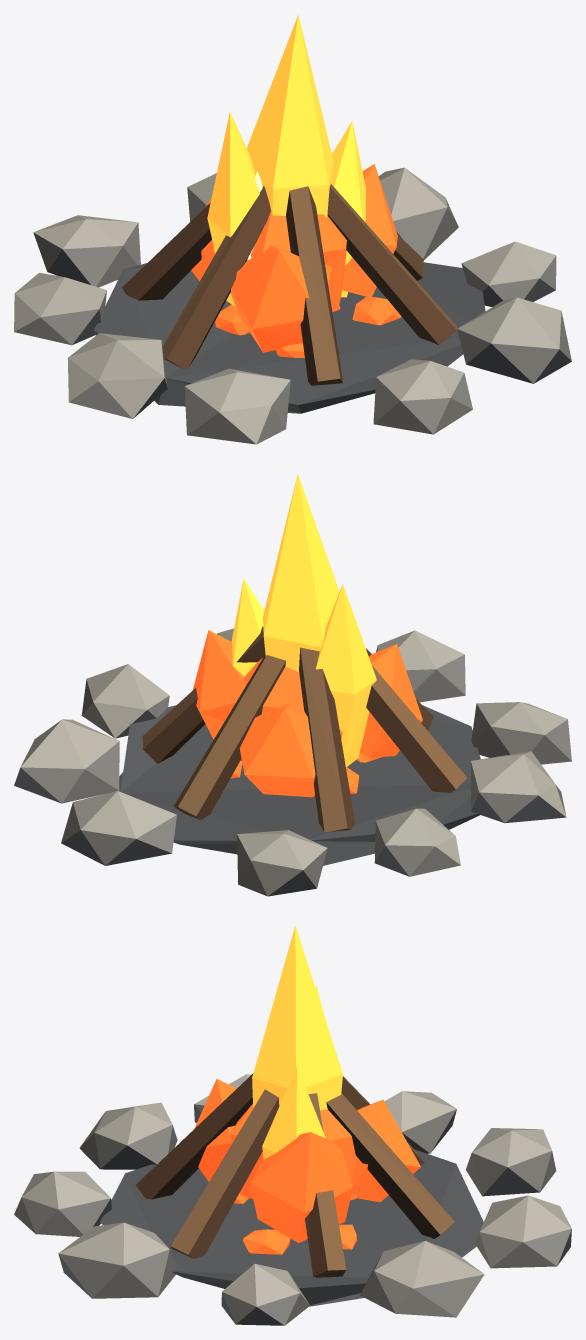
File: SM_Campfire.fbx
The picture shows the model from 3 angles, top to bottom: view 1: azimuth 30°, elevation 25°; view 2: azimuth 150°, elevation 25°; view 3: azimuth 270°, elevation 25°; orthographic projection. The views are drawn at different scales.
Parts seen in each view (by area): view 1: SM_Campfire, Flame_1, Flame_0; view 2: SM_Campfire, Flame_1, Flame_0; view 3: SM_Campfire, Flame_0, Flame_1.
Part boxes in pixels (x1,y1,x2,y2): SM_Campfire: [14, 167, 571, 444]; Flame_1: [207, 15, 365, 306]; Flame_0: [191, 164, 397, 352]; SM_Campfire: [14, 626, 571, 896]; Flame_1: [231, 474, 376, 767]; Flame_0: [193, 630, 422, 797]; SM_Campfire: [14, 1073, 571, 1325]; Flame_0: [194, 1079, 420, 1242]; Flame_1: [252, 925, 342, 1159].
Bounding box in the file's own units: 1.76 × 1.12 × 1.82.
